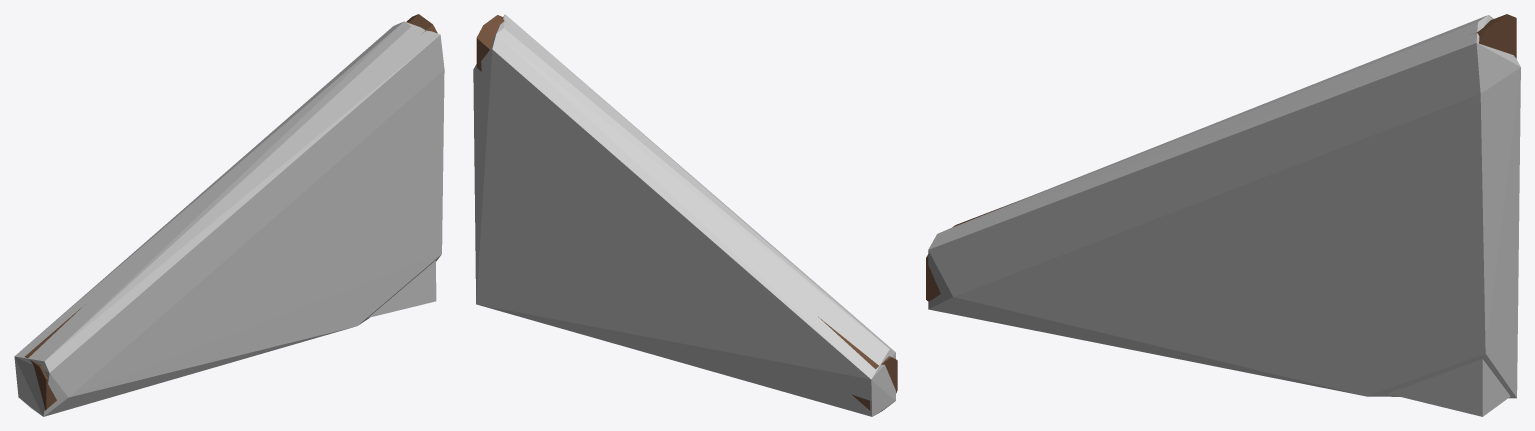
Rendered from SM_Bld_Stairs_Railing_Slope_02.fbx.
The picture shows the model from 3 angles, left to right: view 1: azimuth 30°, elevation 25°; view 2: azimuth 150°, elevation 25°; view 3: azimuth 330°, elevation 25°; orthographic projection. The views are drawn at different scales.
Visible parts, largest first — view 1: SM_Bld_Stairs_Railing_Slope_02_ConvexHulls, SM_Bld_Stairs_Railing_Slope_02; view 2: SM_Bld_Stairs_Railing_Slope_02_ConvexHulls, SM_Bld_Stairs_Railing_Slope_02; view 3: SM_Bld_Stairs_Railing_Slope_02_ConvexHulls, SM_Bld_Stairs_Railing_Slope_02.
Boxes of the visible parts, x1,y1,x2,y2 form: SM_Bld_Stairs_Railing_Slope_02_ConvexHulls: [14, 21, 444, 416]; SM_Bld_Stairs_Railing_Slope_02: [25, 14, 437, 410]; SM_Bld_Stairs_Railing_Slope_02_ConvexHulls: [473, 14, 895, 416]; SM_Bld_Stairs_Railing_Slope_02: [476, 15, 897, 410]; SM_Bld_Stairs_Railing_Slope_02_ConvexHulls: [928, 15, 1520, 398]; SM_Bld_Stairs_Railing_Slope_02: [926, 14, 1516, 416].
Bounding box in the file's own units: 254 × 33.58 × 178.
